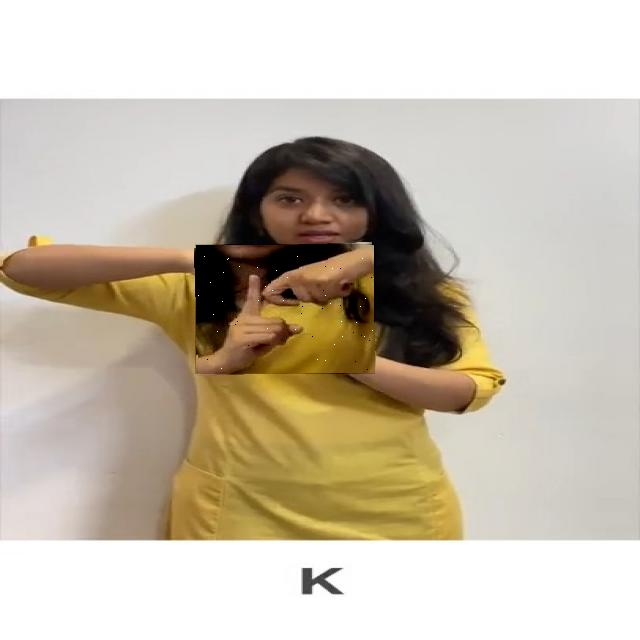K: (195, 244, 375, 374)
